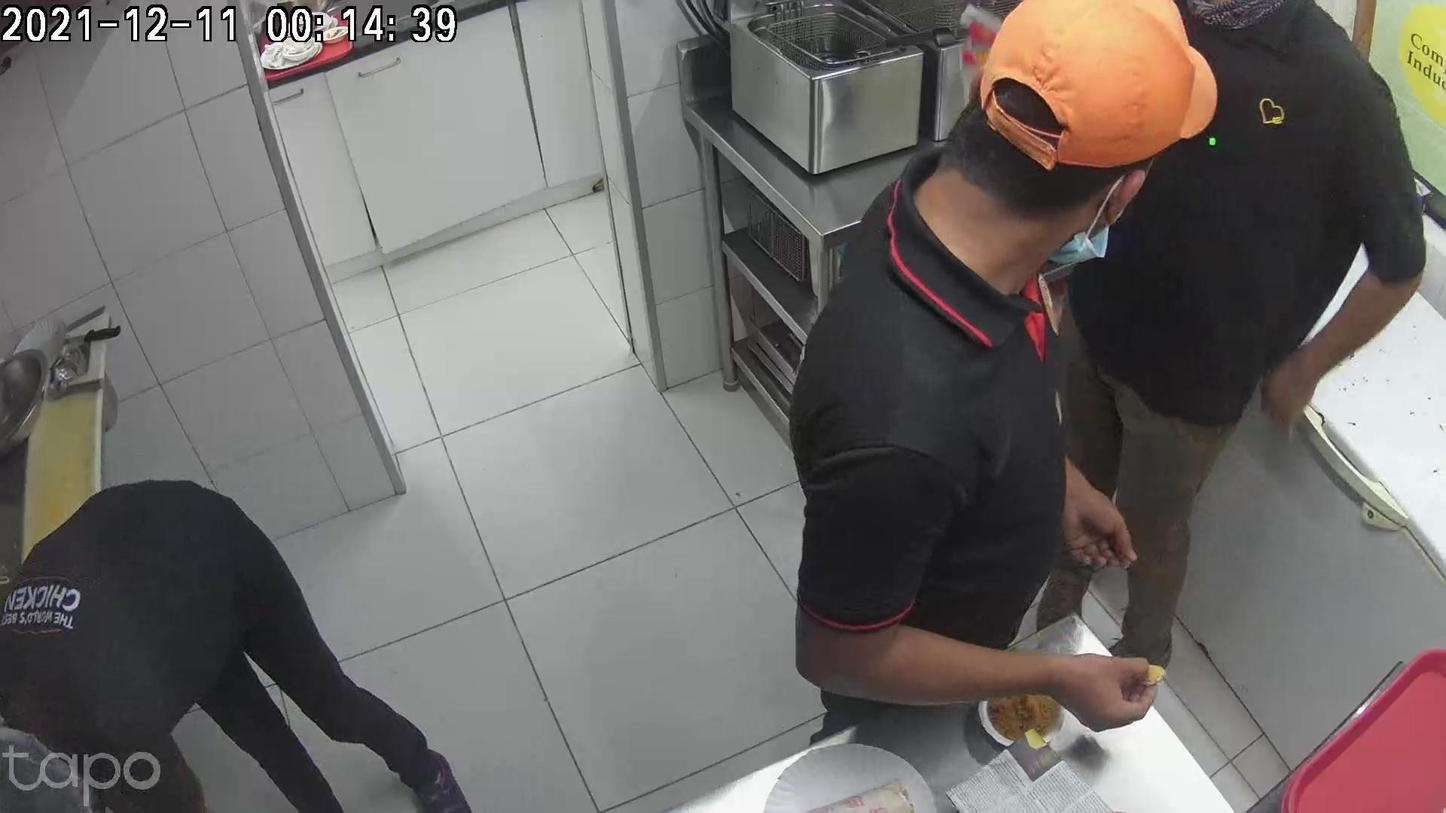gloves: (841, 622, 943, 764)
no_gloves: (1035, 591, 1113, 706)
